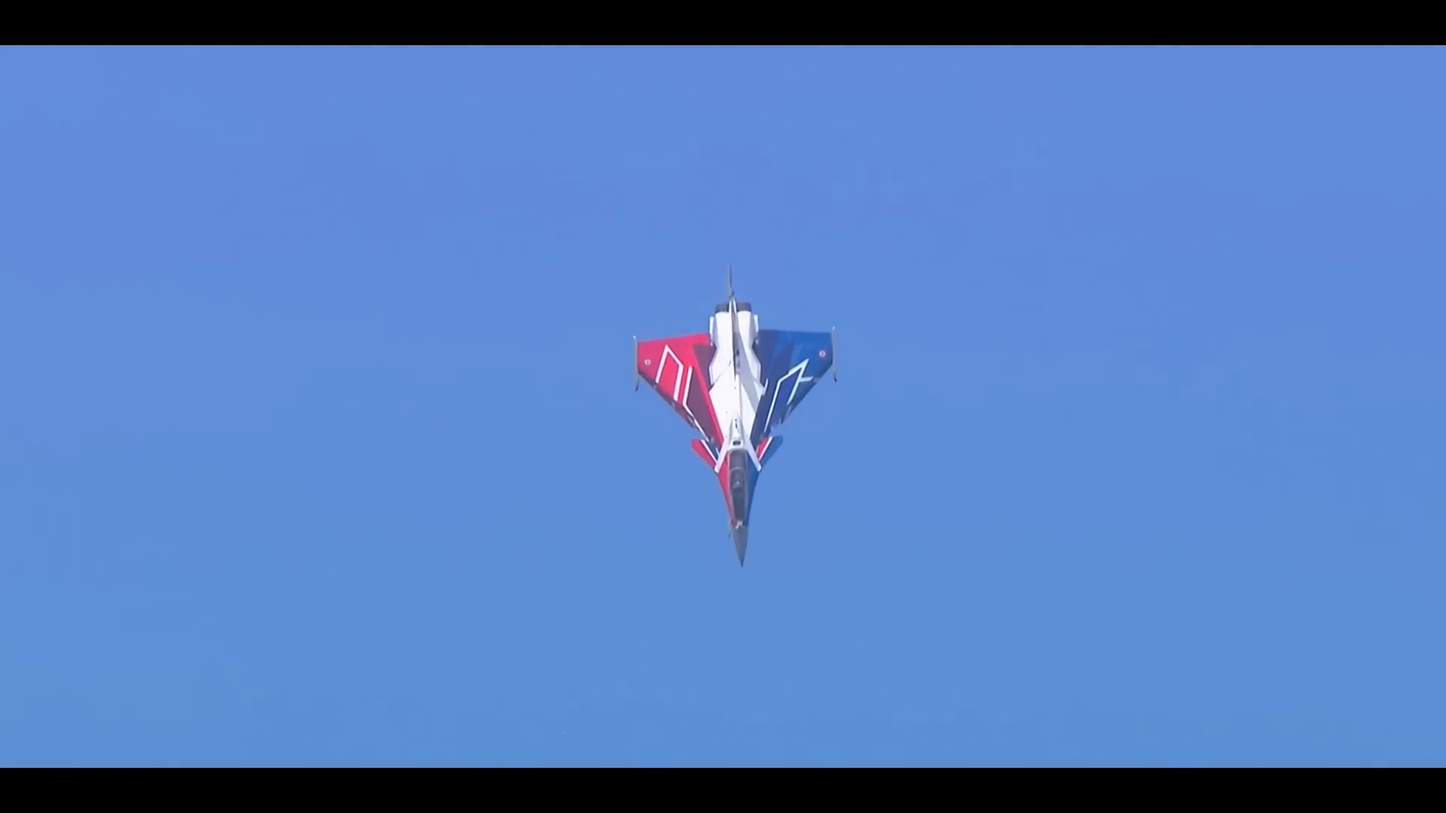Rafale: (630, 269, 842, 570)
